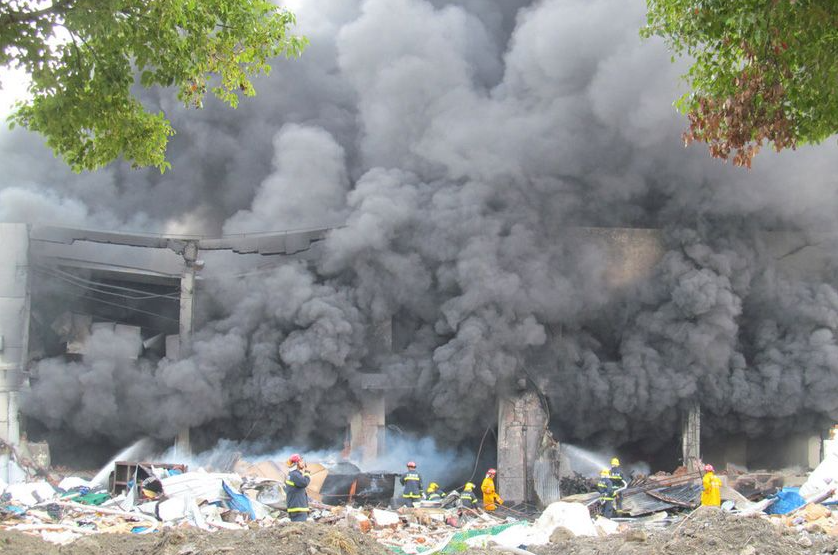喷灌水雾: (87, 436, 153, 489), (558, 442, 613, 482)
